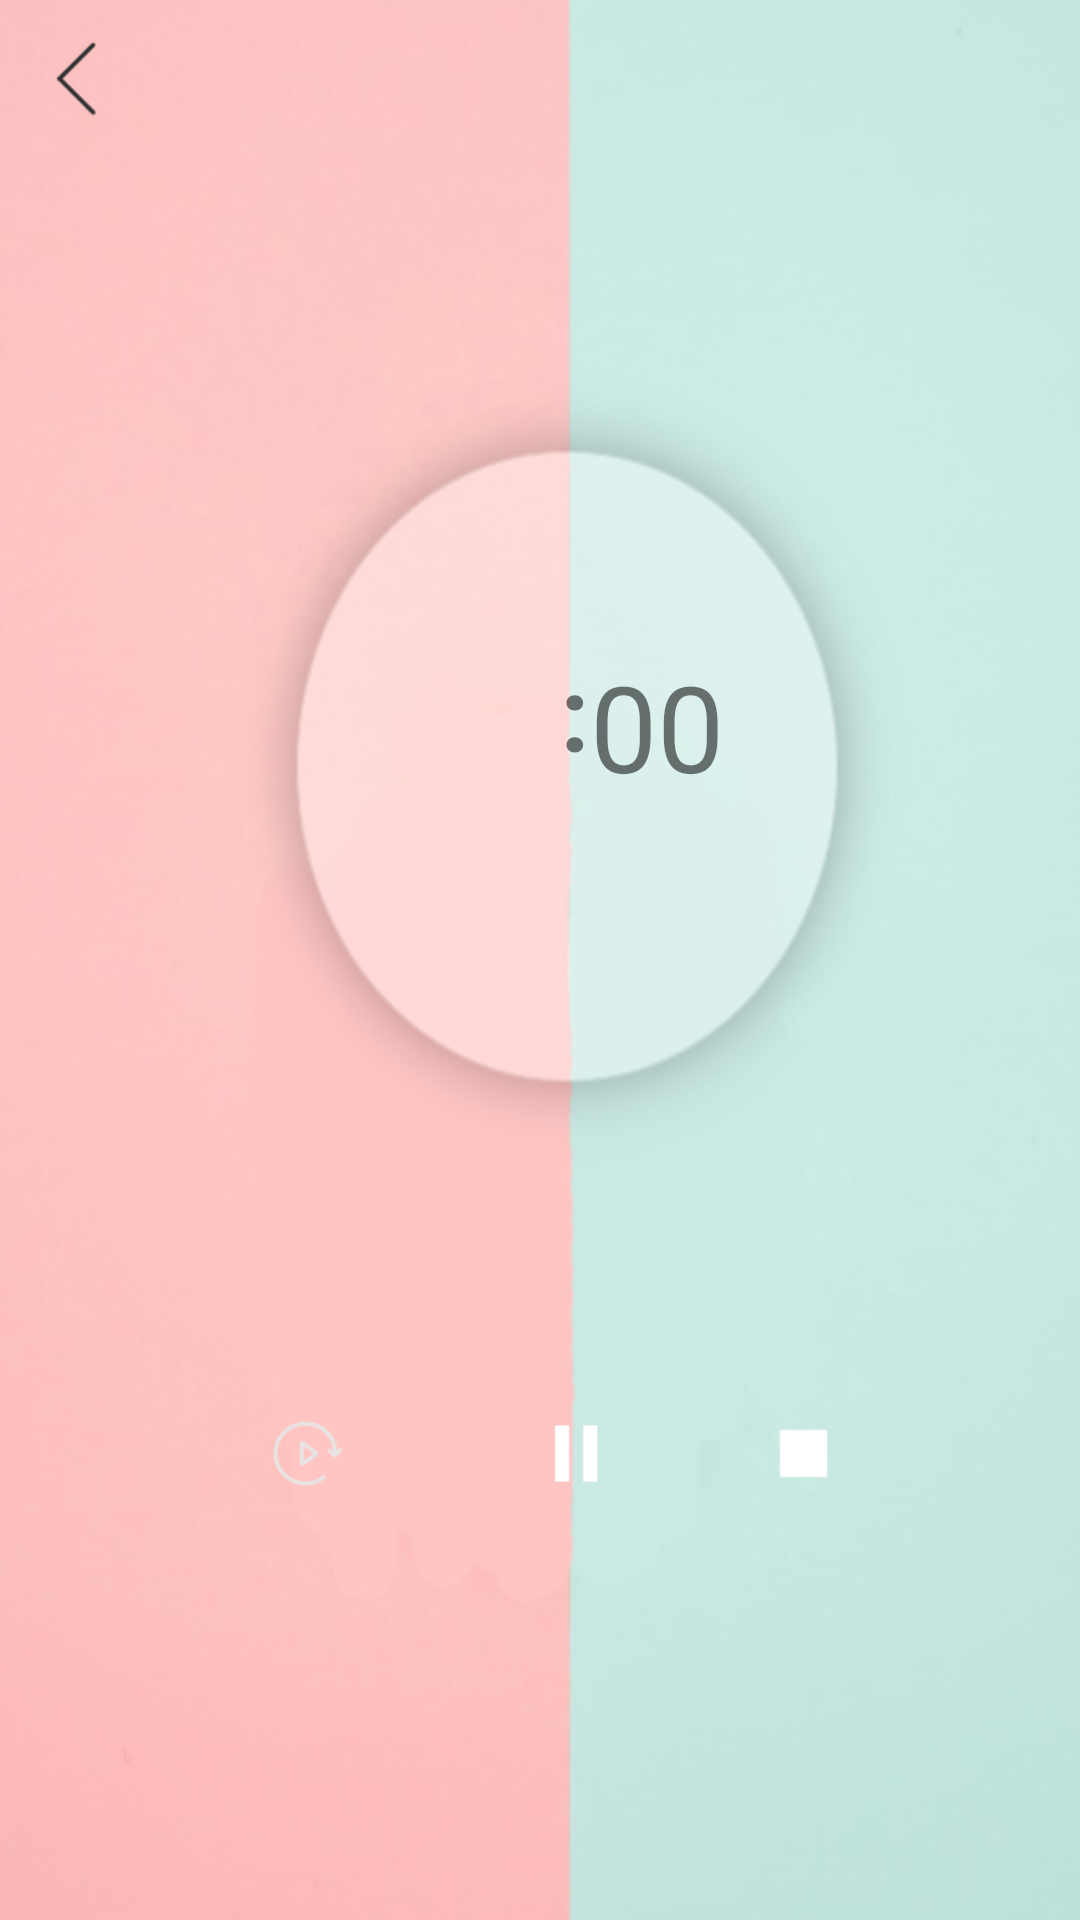

Where to tap for icons on this 1080px×1920px app screen, as (x=x, y=y):
back left: (x=76, y=79)
jixu: (x=307, y=1453)
zanting: (x=578, y=1453)
